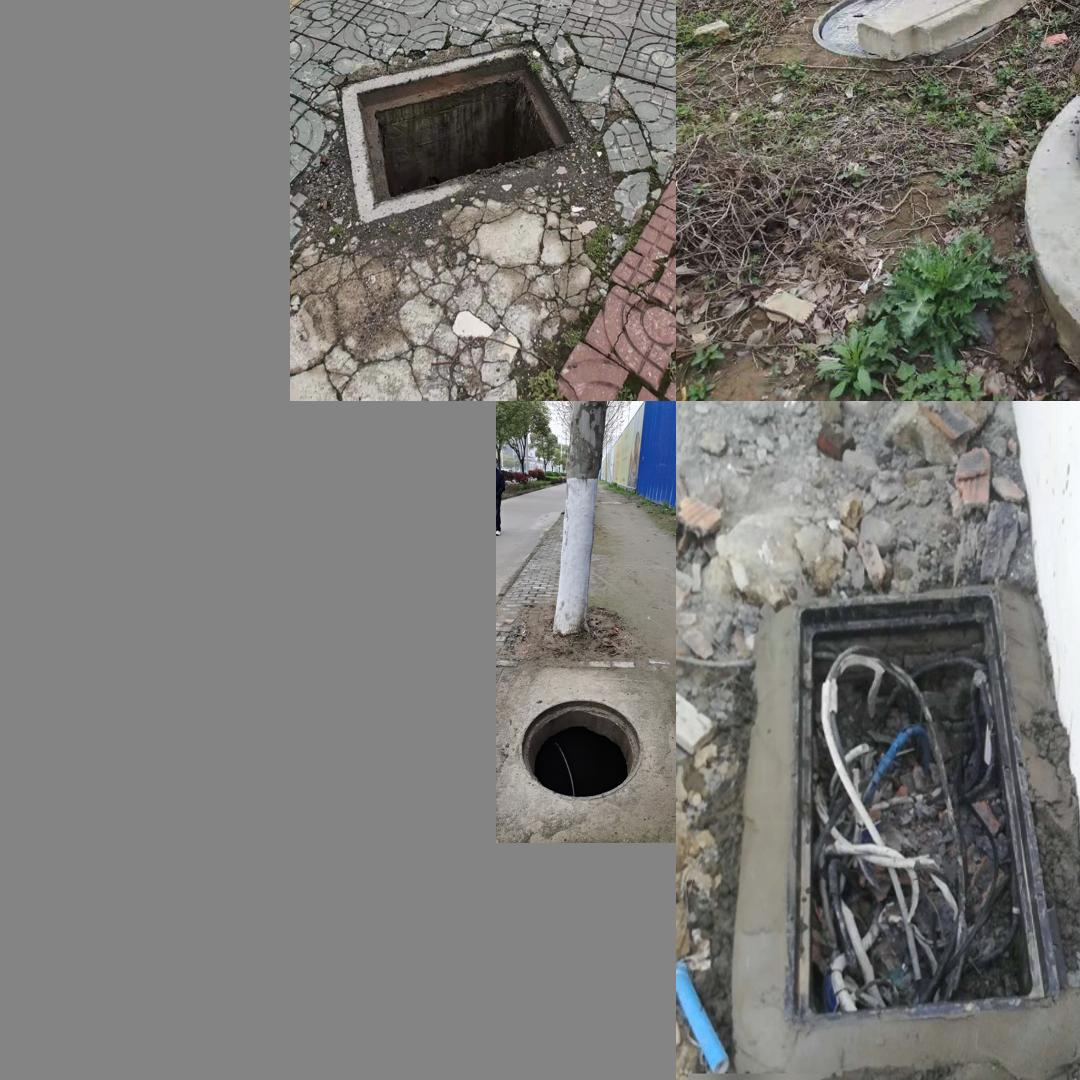lose: (784, 585, 1065, 1026), (339, 42, 595, 224), (517, 697, 643, 800), (1075, 37, 1080, 253)
